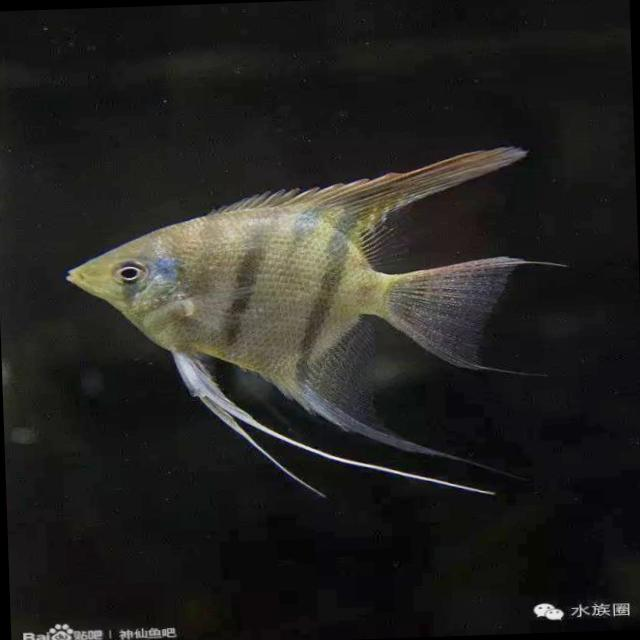AngelFish: (61, 139, 574, 512)
